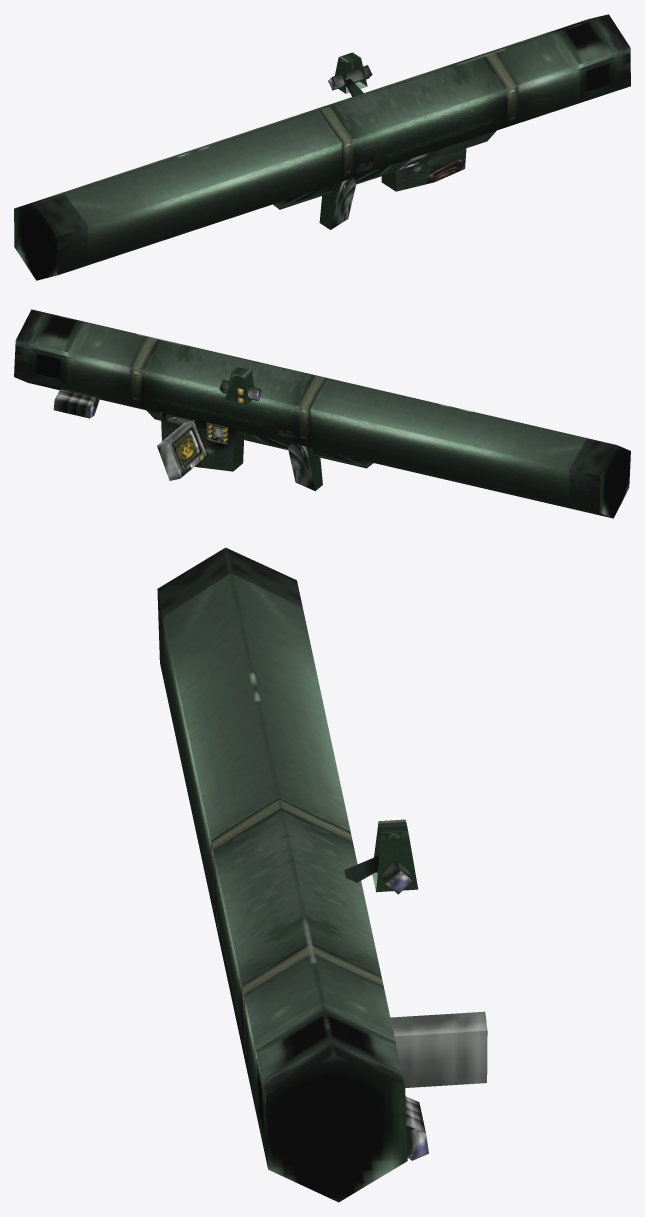
File: p_rpg2.glb
The picture shows the model from 3 angles, top to bottom: view 1: azimuth 30°, elevation 25°; view 2: azimuth 150°, elevation 25°; view 3: azimuth 270°, elevation 25°; orthographic projection. The views are drawn at different scales.
Visible parts, largest first — view 1: p_rpg2; view 2: p_rpg2; view 3: p_rpg2.
Part boxes in pixels (x1,y1,x2,y2): p_rpg2: (14, 14, 630, 280); p_rpg2: (14, 309, 630, 518); p_rpg2: (157, 547, 487, 1202).
Bounding box in the file's own units: 38.73 × 8.2 × 9.8.
1 material, 1 textured.
